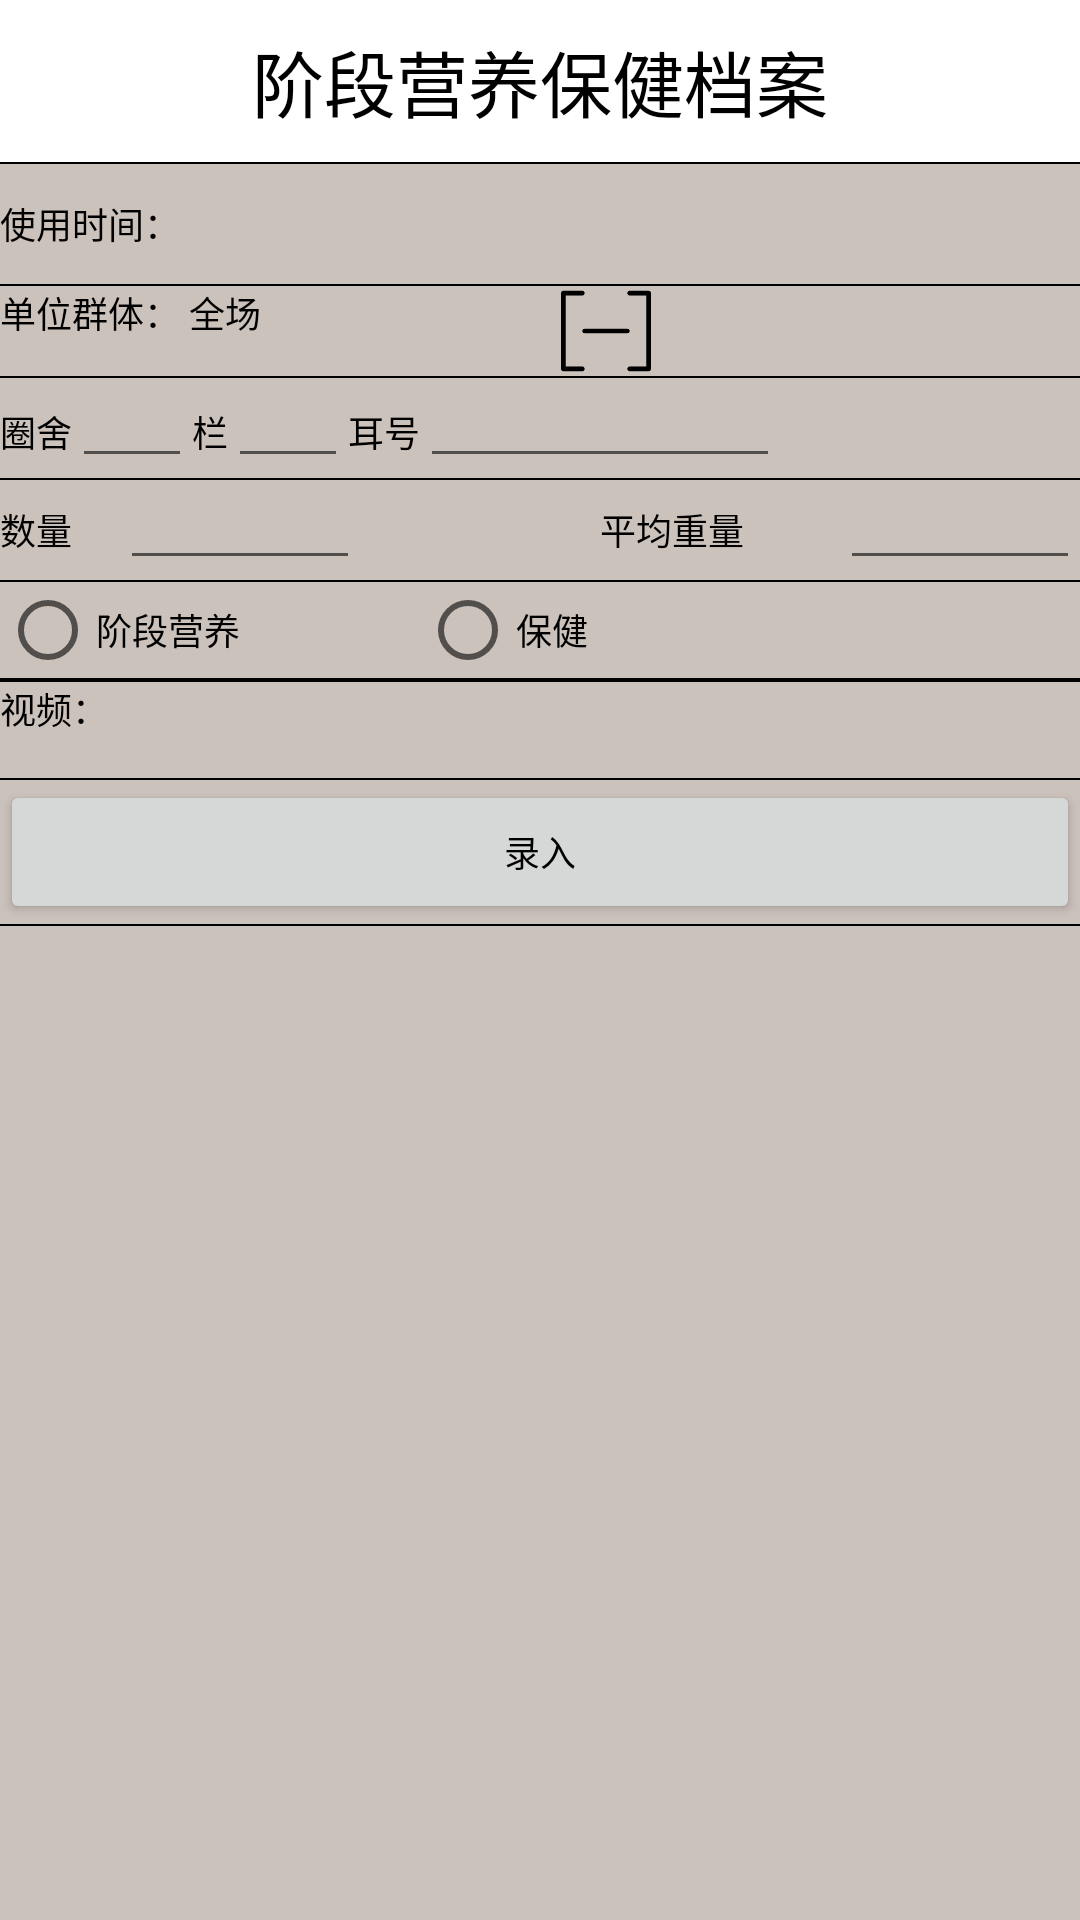

Screen size 1080 × 1920. Icon name, then its center in pixels as [x,y]:
icol scandel: [606,331]
